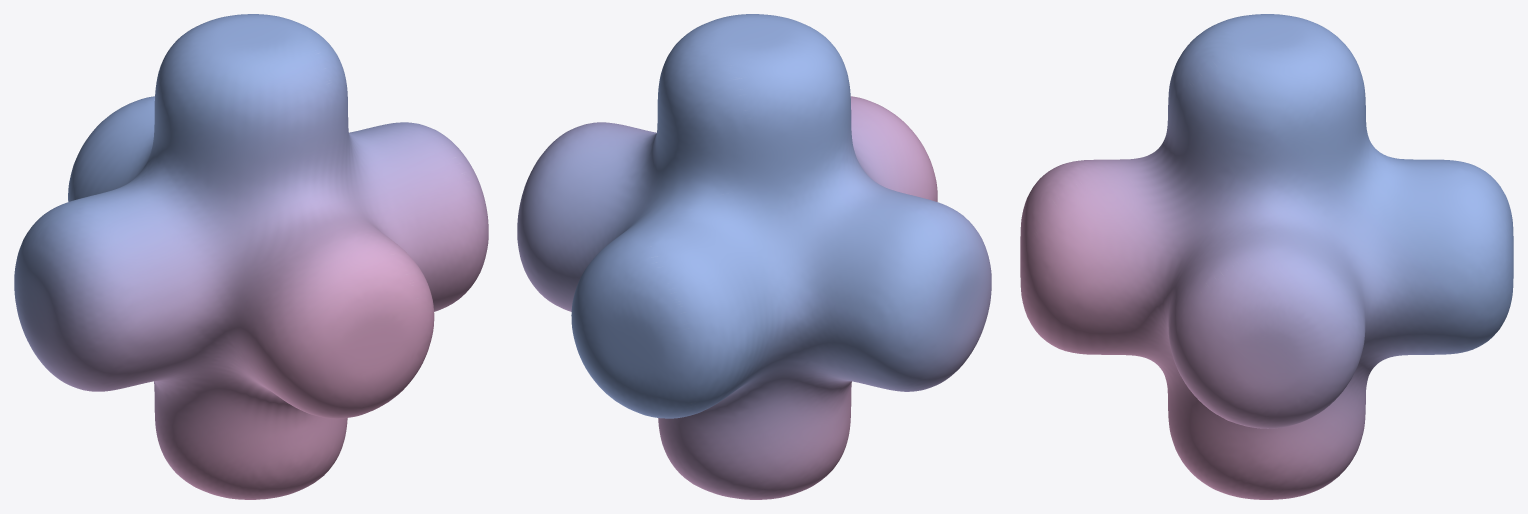
Rendered from 08_pluff_static.glb.
The picture shows the model from 3 angles, left to right: view 1: azimuth 30°, elevation 25°; view 2: azimuth 150°, elevation 25°; view 3: azimuth 270°, elevation 25°; orthographic projection.
Parts seen in each view (by area): view 1: pinch; view 2: pinch; view 3: pinch.
Part boxes in pixels (<box>): pinch: <box>14,14,488,499</box>; pinch: <box>517,14,991,499</box>; pinch: <box>1020,14,1513,499</box>.
Size of the model in its own units: 0.1363 by 0.1363 by 0.1363.
1 material, 1 textured.
